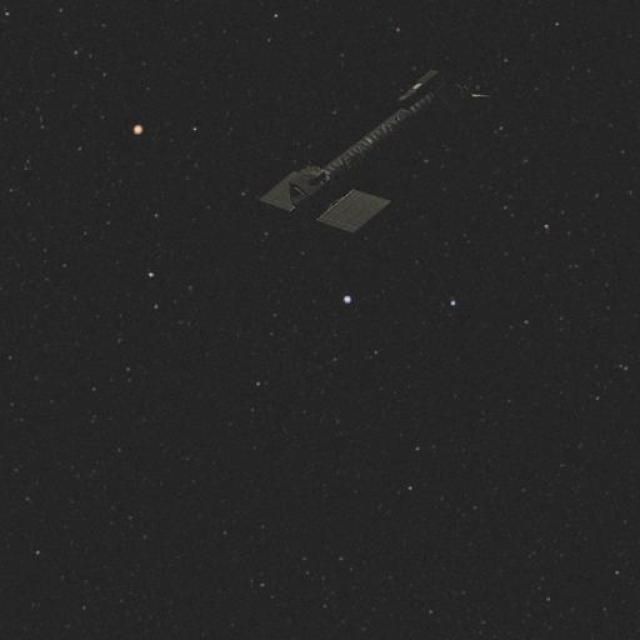xmm_newton: (228, 42, 465, 258)
